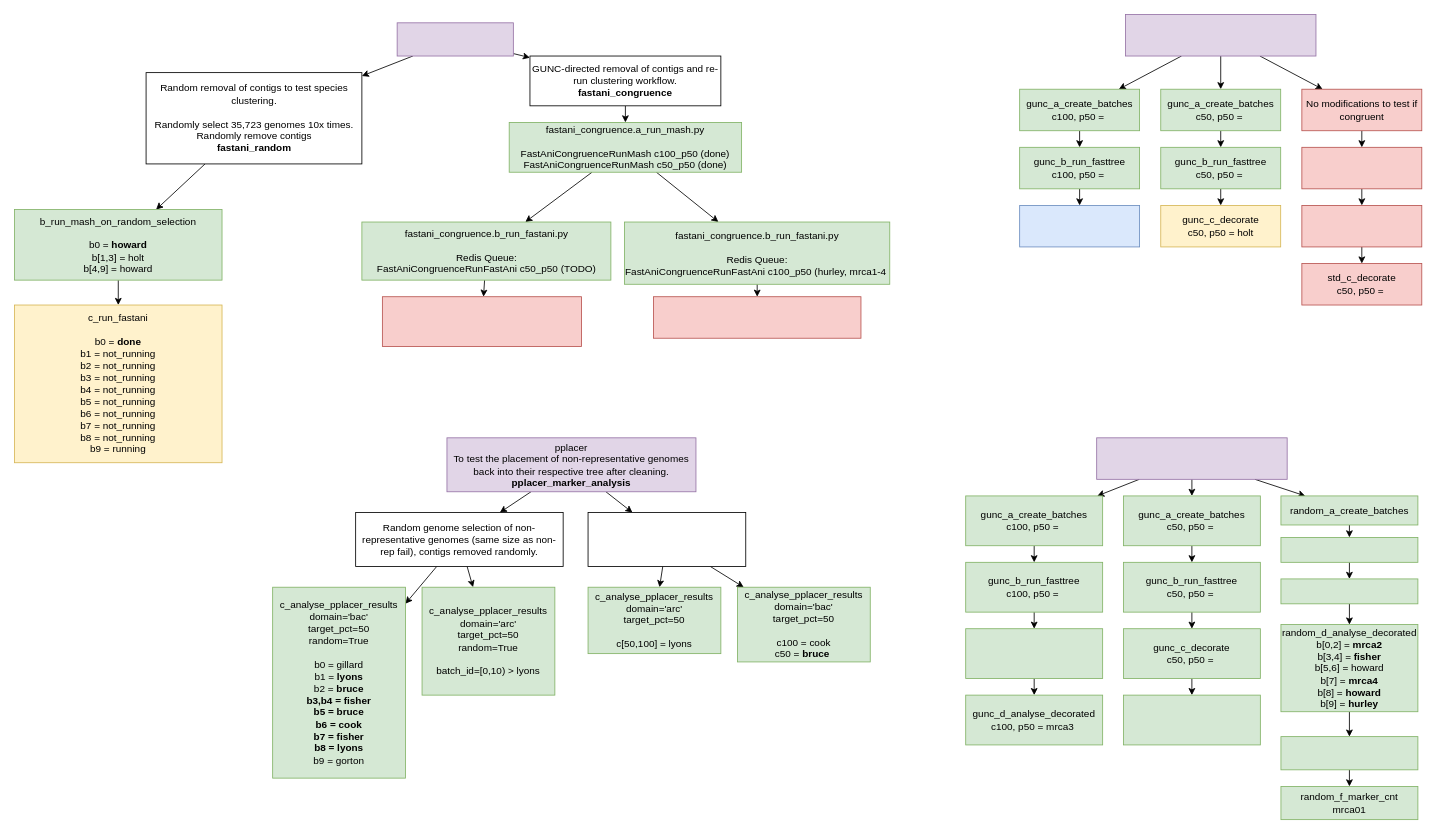
The diagram is 1437 pixels wide and 834 high, and some of its shapes have lost their labels. The centre of each missing label's shape, as x and y in pixels:
"FastANI" goes at [454,39].
"fastani_congruence.c_analyse_fastani.py c100_p50 (todo)" goes at [757,317].
"fastani_congruence.c_analyse_fastani.py c50_p50 (todo)" goes at [482,321].
"FastTree (full tree) BAC120 reps + GUNC failed bac fasttree_full_tree_non_reps" goes at [1220,35].
"FastTree (reps only) BAC120 reps that failed GUNC fasttree_marker_analysis" goes at [1191,458].
"GUNC-directed removal of contigs and placement back into the domain tree." goes at [666,539].
"gunc_c_decorate c100, p50 =" goes at [1034,653].
"gunc_c_decorate c100, p50 = cook" goes at [1079,226].
"gunc_d_analyse_decorated c50, p50 = curtin" goes at [1191,719].
"random_b_create_batches" goes at [1349,549].
"random_c_run_fasttree" goes at [1349,591].
"random_e_parent_bs mrca01" goes at [1349,753].
"std_a_create_batches c50, p50 =" goes at [1361,167].
"std_b_run_fasttree c50, p50 =" goes at [1361,226].
